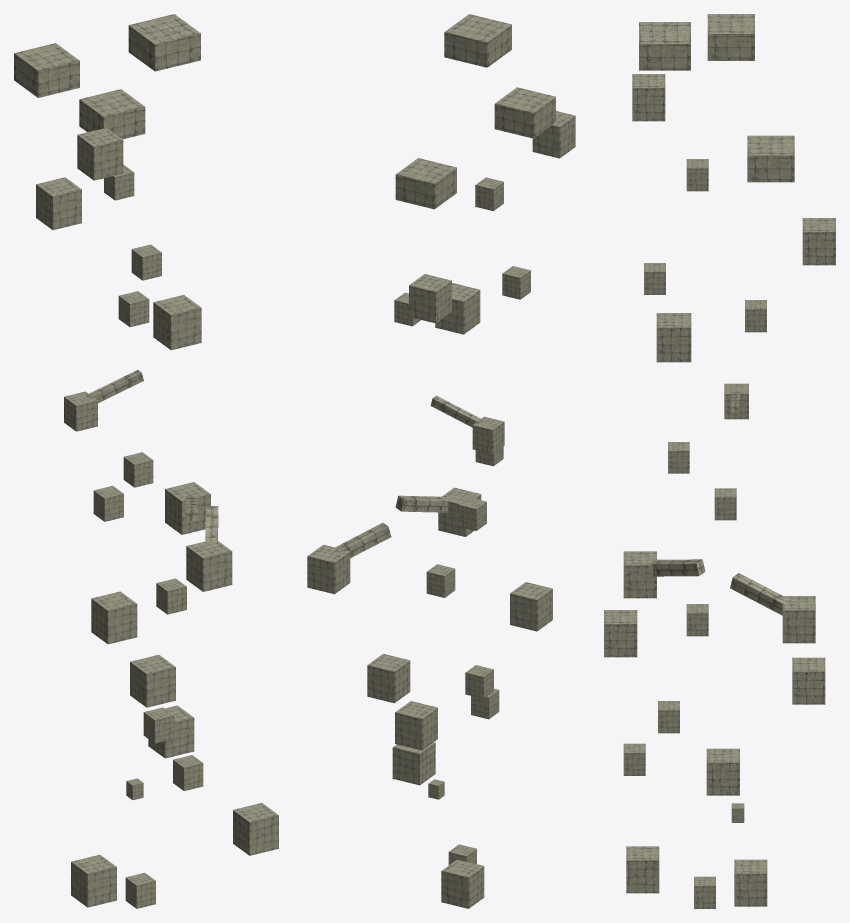
File: SM_LDFest_16_Blockout00.fbx
The picture shows the model from 3 angles, left to right: view 1: azimuth 30°, elevation 25°; view 2: azimuth 150°, elevation 25°; view 3: azimuth 270°, elevation 25°; orthographic projection. The views are drawn at different scales.
Parts seen in each view (by area): view 1: SM_LDFest_16_Blockout00; view 2: SM_LDFest_16_Blockout00; view 3: SM_LDFest_16_Blockout00.
Boxes of the visible parts, x1=… form: SM_LDFest_16_Blockout00: x1=14, y1=14, x2=278, y2=908; SM_LDFest_16_Blockout00: x1=307, y1=14, x2=575, y2=908; SM_LDFest_16_Blockout00: x1=604, y1=14, x2=835, y2=908.
Bounding box in the file's own units: 2492 × 10088 × 2411.
